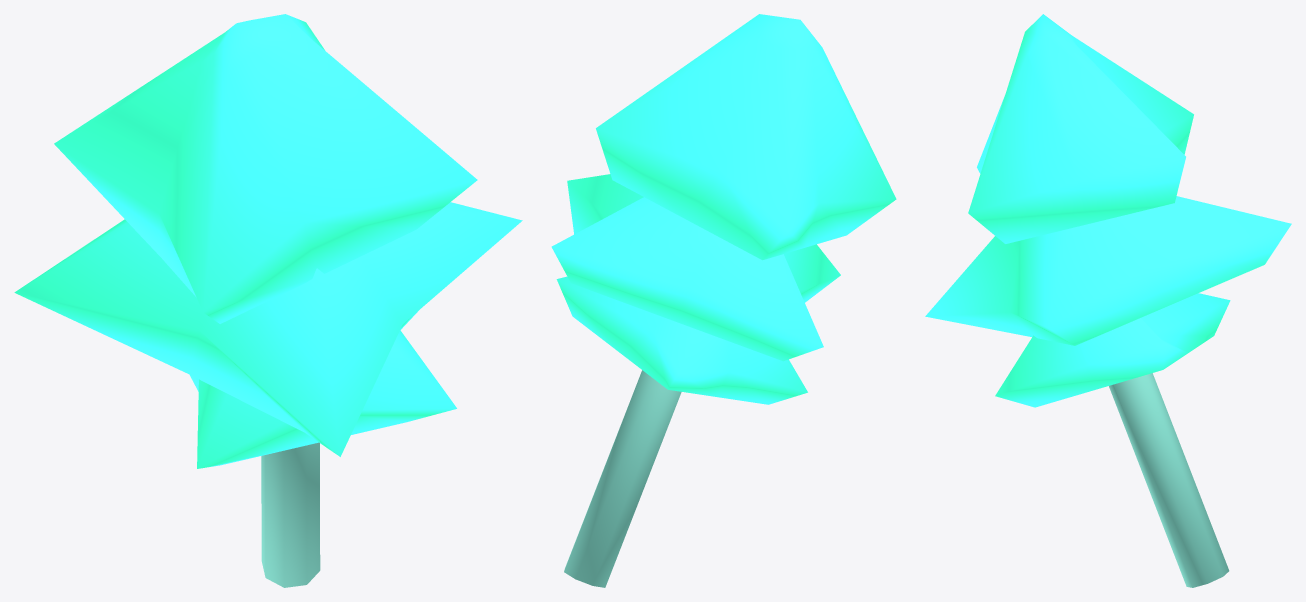
File: tree07.fbx
The picture shows the model from 3 angles, left to right: view 1: azimuth 30°, elevation 25°; view 2: azimuth 150°, elevation 25°; view 3: azimuth 270°, elevation 25°; orthographic projection. The views are drawn at different scales.
Parts seen in each view (by area): view 1: tree_leaves01, tree_trunk01; view 2: tree_leaves01, tree_trunk01; view 3: tree_leaves01, tree_trunk01.
Boxes of the visible parts, bbox=[...] form: tree_leaves01: bbox=[14, 14, 522, 468]; tree_trunk01: bbox=[261, 442, 320, 587]; tree_leaves01: bbox=[551, 14, 896, 404]; tree_trunk01: bbox=[564, 370, 681, 587]; tree_leaves01: bbox=[925, 14, 1291, 407]; tree_trunk01: bbox=[1109, 373, 1229, 587].
Size of the model in its own units: 3.62 by 5.6 by 3.63.
